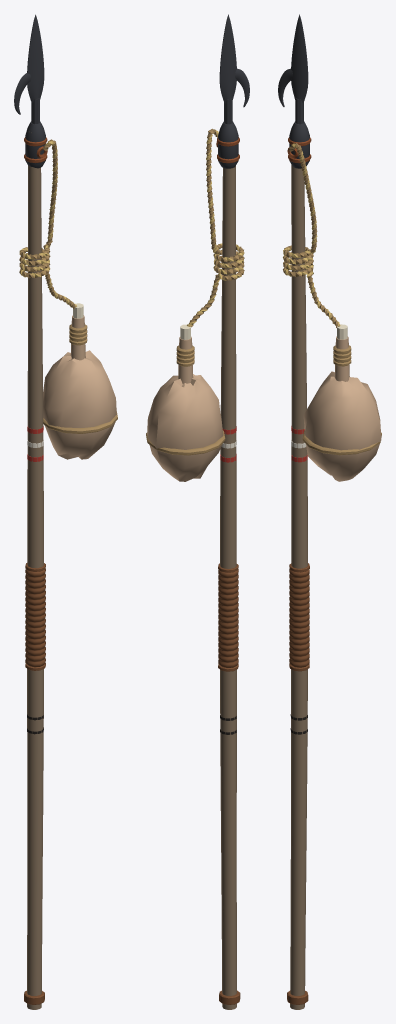
The model's file is tool_harpoon_float.fbx.
3 renders of one model, left to right at view 1: azimuth 30°, elevation 25°; view 2: azimuth 210°, elevation 25°; view 3: azimuth 330°, elevation 25°, orthographic.
Visible parts, largest first — view 1: Tool_Harpoon_Float_Shaft, Tool_Harpoon_Float_Float, Tool_Harpoon_Float_Iron, Tool_Harpoon_Float_Wraps, Tool_Harpoon_Float_Line; view 2: Tool_Harpoon_Float_Shaft, Tool_Harpoon_Float_Float, Tool_Harpoon_Float_Iron, Tool_Harpoon_Float_Wraps, Tool_Harpoon_Float_Line; view 3: Tool_Harpoon_Float_Shaft, Tool_Harpoon_Float_Float, Tool_Harpoon_Float_Wraps, Tool_Harpoon_Float_Iron, Tool_Harpoon_Float_Line.
Boxes of the visible parts, x1=… form: Tool_Harpoon_Float_Shaft: x1=27, y1=132, x2=43, y2=1009; Tool_Harpoon_Float_Float: x1=43, y1=303, x2=117, y2=459; Tool_Harpoon_Float_Iron: x1=14, y1=14, x2=47, y2=168; Tool_Harpoon_Float_Wraps: x1=24, y1=563, x2=45, y2=1004; Tool_Harpoon_Float_Line: x1=19, y1=139, x2=76, y2=308; Tool_Harpoon_Float_Shaft: x1=220, y1=166, x2=236, y2=1009; Tool_Harpoon_Float_Float: x1=146, y1=324, x2=225, y2=481; Tool_Harpoon_Float_Iron: x1=216, y1=14, x2=249, y2=168; Tool_Harpoon_Float_Wraps: x1=218, y1=563, x2=240, y2=1004; Tool_Harpoon_Float_Line: x1=187, y1=128, x2=244, y2=327; Tool_Harpoon_Float_Shaft: x1=290, y1=164, x2=307, y2=1009; Tool_Harpoon_Float_Float: x1=302, y1=324, x2=381, y2=481; Tool_Harpoon_Float_Wraps: x1=287, y1=563, x2=309, y2=1004; Tool_Harpoon_Float_Iron: x1=278, y1=14, x2=311, y2=168; Tool_Harpoon_Float_Line: x1=283, y1=143, x2=340, y2=327.
Size of the model in its own units: 25.88 by 249 by 18.2.
